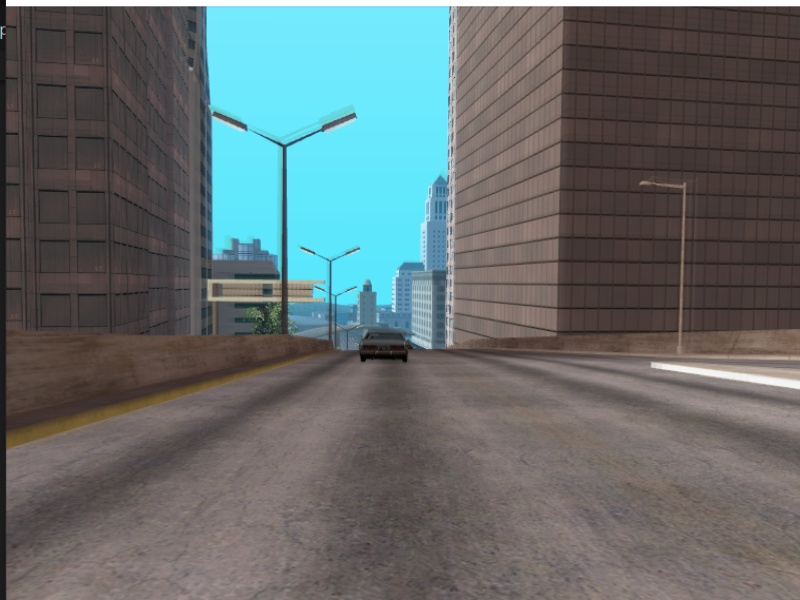pole: (278, 144, 292, 334), (673, 184, 688, 354), (326, 259, 335, 342)
vehicle: (354, 327, 416, 366)
